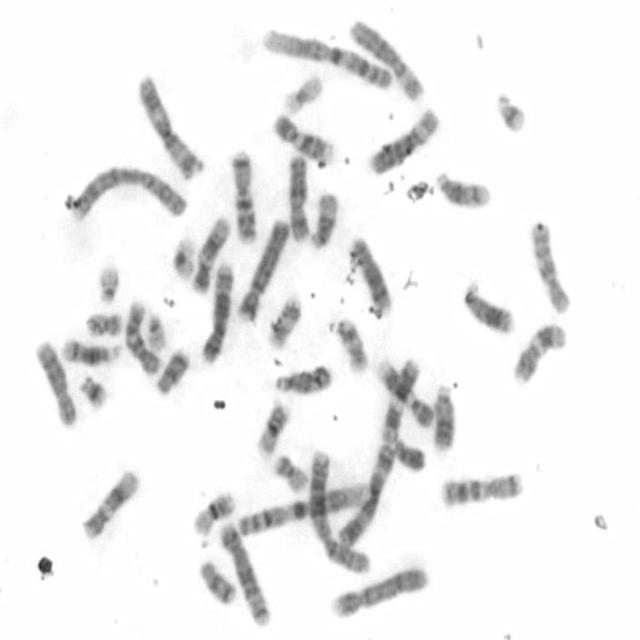A1: (258, 24, 396, 91), (232, 476, 370, 539)
A2: (305, 443, 373, 579), (67, 161, 188, 224)
A3: (132, 68, 205, 181), (334, 444, 402, 548)
B4: (326, 560, 431, 620), (235, 215, 290, 324)
B5: (215, 516, 272, 628), (197, 256, 236, 366)
C10: (526, 214, 571, 316), (121, 295, 164, 377)
C11: (508, 318, 569, 388), (382, 361, 420, 435)
C12: (79, 463, 142, 543), (188, 209, 232, 295)
C6: (347, 15, 426, 103), (365, 102, 441, 176)
C7: (436, 466, 525, 508), (228, 145, 258, 246)
C8: (32, 337, 78, 429), (345, 232, 394, 314)
C9: (372, 354, 436, 431), (268, 110, 334, 164)
D13: (457, 274, 517, 337), (428, 377, 459, 453)
D14: (432, 166, 495, 212), (57, 333, 121, 368)
D15: (306, 187, 340, 250), (273, 363, 335, 397)
E16: (252, 395, 293, 458), (189, 486, 237, 538)
E17: (329, 311, 371, 375), (264, 287, 304, 351)
E18: (195, 554, 240, 608), (151, 344, 192, 396)
F19: (278, 69, 324, 118), (168, 231, 198, 280)
F20: (270, 448, 310, 494), (82, 307, 123, 338)
G21: (492, 85, 530, 136), (76, 370, 110, 412)
G22: (92, 257, 123, 306), (143, 309, 168, 353)
X: (285, 150, 312, 242)
Y: (381, 432, 426, 474)
